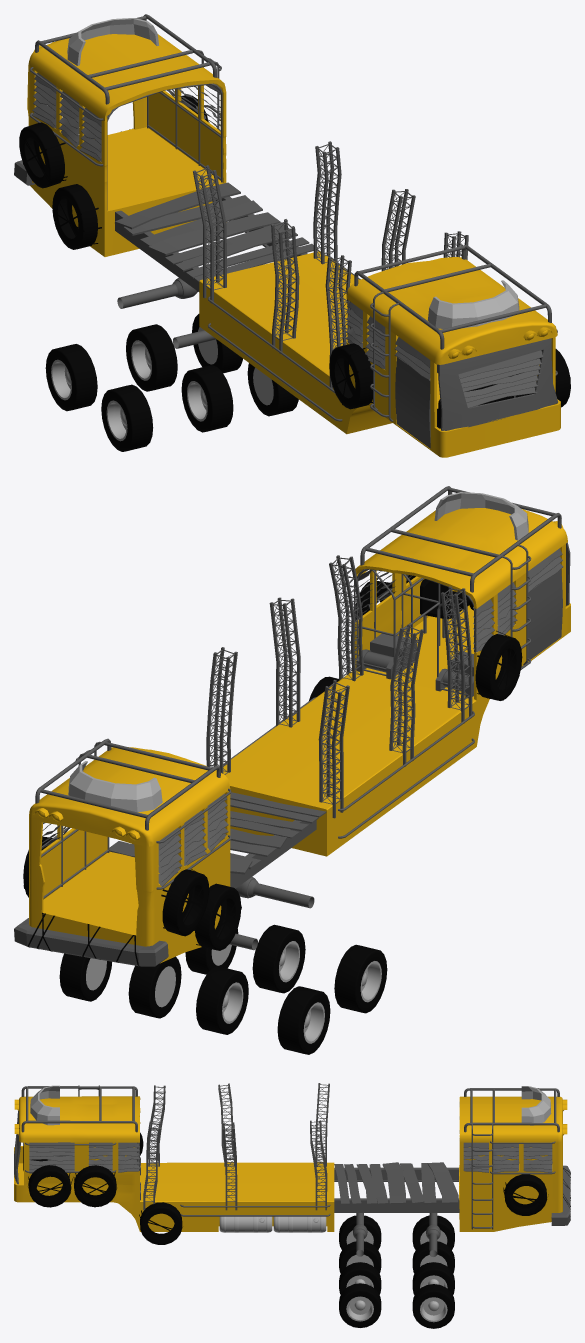
File: Bus Trailer Final.fbx
3 views of the same model, one above another, from view 1: azimuth 30°, elevation 25°; view 2: azimuth 150°, elevation 25°; view 3: azimuth 270°, elevation 25° (orthographic). The views are drawn at different scales.
Parts seen in each view (by area): view 1: polySurface55, polySurface207, Passenger_Side_Front_Wheel, Passenger_Side_Back_Wheel, polySurface136, polySurface85, polySurface120, polySurface202, polySurface119, polySurface165, polySurface28, polySurface54 (+15 smaller); view 2: polySurface55, polySurface207, Passenger_Side_Back_Wheel, Passenger_Side_Front_Wheel, Driver_Side_Back_Wheel, polySurface113, polySurface54, polySurface165, polySurface85, polySurface119, polySurface120, polySurface202 (+5 smaller); view 3: polySurface55, polySurface207, Driver_Side_Back_Wheel, Driver_Side_Front_Wheel, Passenger_Side_Front_Wheel, Passenger_Side_Back_Wheel, polySurface93, polySurface166, polySurface137, polySurface167, polySurface138, polySurface162 (+18 smaller).
Boxes of the visible parts, <box> form: polySurface55: <box>199,251,560,457</box>; polySurface207: <box>27,34,226,256</box>; Passenger_Side_Front_Wheel: <box>101,365,233,451</box>; Passenger_Side_Back_Wheel: <box>45,324,177,411</box>; polySurface136: <box>438,338,557,430</box>; polySurface85: <box>395,357,430,448</box>; polySurface120: <box>52,184,97,249</box>; polySurface202: <box>427,280,519,328</box>; polySurface119: <box>19,122,64,188</box>; polySurface165: <box>329,343,372,409</box>; polySurface28: <box>148,212,280,255</box>; polySurface54: <box>67,18,158,65</box>; polySurface55: <box>223,508,570,856</box>; polySurface207: <box>29,747,230,963</box>; Passenger_Side_Back_Wheel: <box>196,966,330,1054</box>; Passenger_Side_Front_Wheel: <box>252,924,387,1013</box>; Driver_Side_Back_Wheel: <box>59,953,181,1018</box>; polySurface113: <box>14,918,168,966</box>; polySurface54: <box>68,761,162,812</box>; polySurface165: <box>475,634,522,700</box>; polySurface85: <box>528,569,562,659</box>; polySurface119: <box>162,869,209,936</box>; polySurface120: <box>195,883,241,950</box>; polySurface202: <box>434,492,528,540</box>; polySurface55: <box>14,1096,334,1231</box>; polySurface207: <box>459,1096,562,1231</box>; Driver_Side_Back_Wheel: <box>412,1262,454,1328</box>; Driver_Side_Front_Wheel: <box>339,1262,381,1327</box>; Passenger_Side_Front_Wheel: <box>339,1215,381,1273</box>; Passenger_Side_Back_Wheel: <box>412,1215,454,1273</box>; polySurface93: <box>334,1198,459,1212</box>; polySurface166: <box>74,1165,116,1207</box>; polySurface137: <box>504,1174,546,1215</box>; polySurface167: <box>28,1165,71,1207</box>; polySurface138: <box>140,1202,182,1244</box>; polySurface162: <box>219,1216,272,1232</box>.
Bounding box in the file's own units: 5.58 × 6.73 × 17.29.
